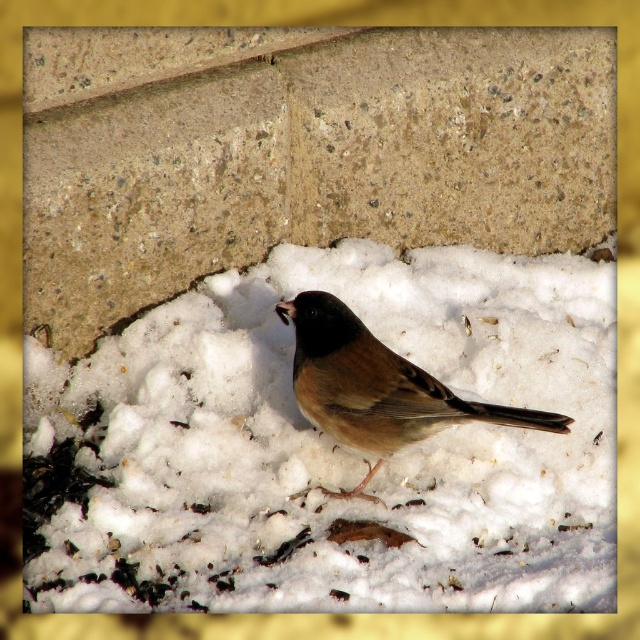Sparrow: (277, 287, 577, 504)
